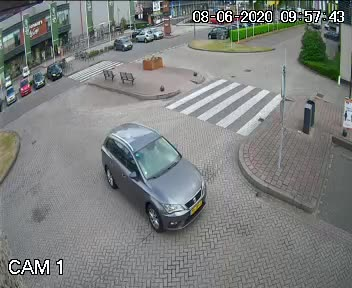car: (89, 116, 211, 236)
